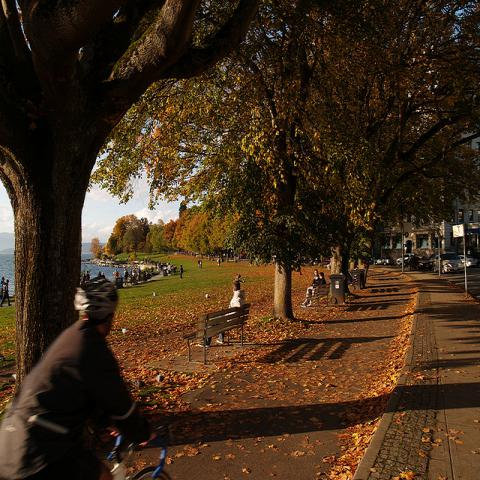car: (434, 251, 464, 274), (407, 255, 433, 271), (396, 253, 420, 266), (458, 254, 474, 270), (374, 255, 395, 266)
